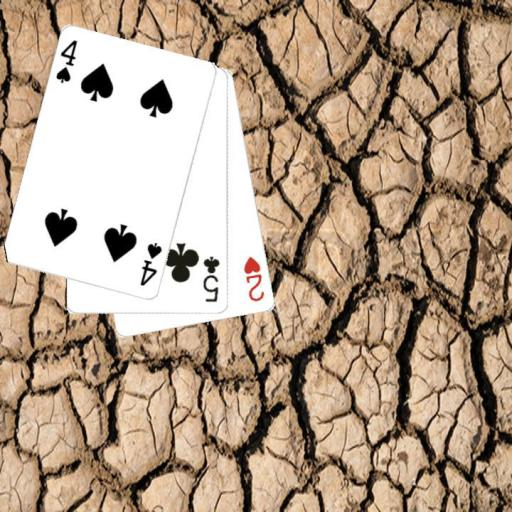2H: (241, 253, 267, 304)
4S: (137, 240, 164, 288), (53, 37, 80, 85)
5C: (201, 254, 221, 304)
